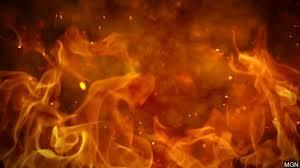fire: (0, 1, 298, 167)
